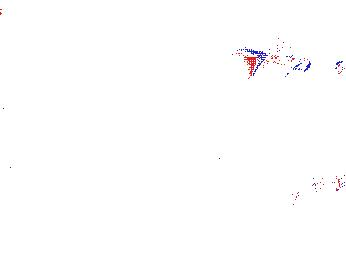glassfish: (284, 170, 346, 215)
redtail glassfish: (237, 40, 314, 81), (208, 142, 285, 165), (330, 56, 346, 80)
